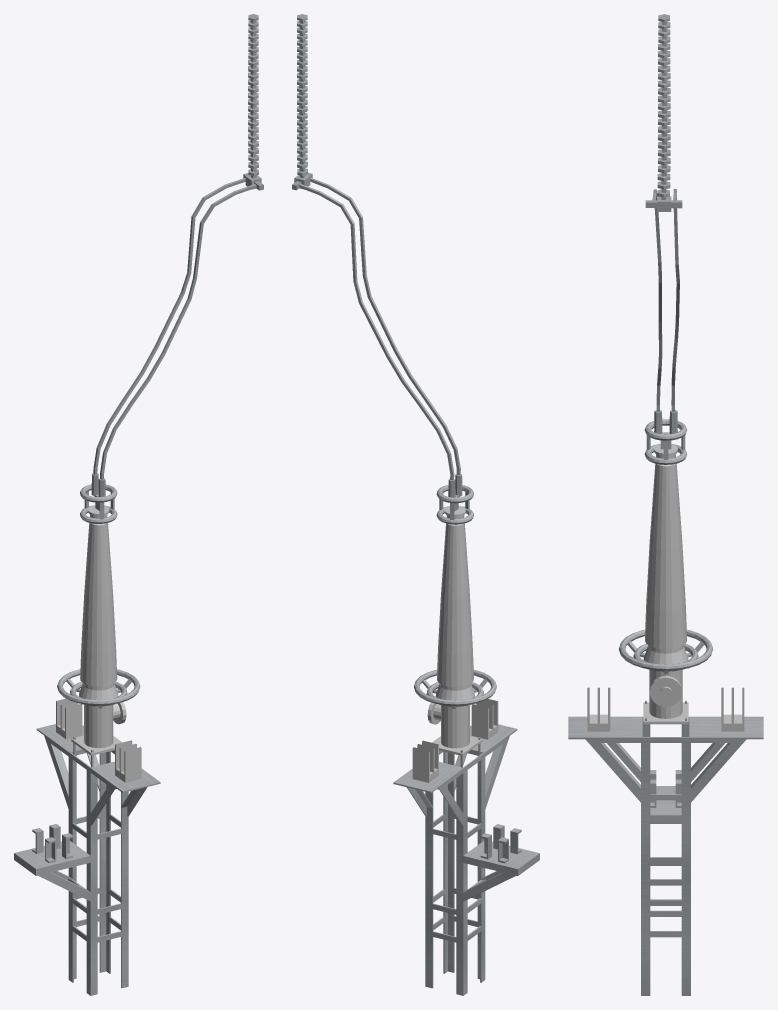
The model's file is tower_sub002.FBX.
3 views of the same model, side by side, from view 1: azimuth 30°, elevation 25°; view 2: azimuth 150°, elevation 25°; view 3: azimuth 270°, elevation 25° (orthographic). The views are drawn at different scales.
Visible parts, largest first — view 1: tower_sub002; view 2: tower_sub002; view 3: tower_sub002.
Part boxes in pixels (bbox=[...]): tower_sub002: bbox=[14, 14, 263, 995]; tower_sub002: bbox=[292, 14, 539, 995]; tower_sub002: bbox=[568, 14, 763, 995].
Bounding box in the file's own units: 456 × 1738 × 292.
